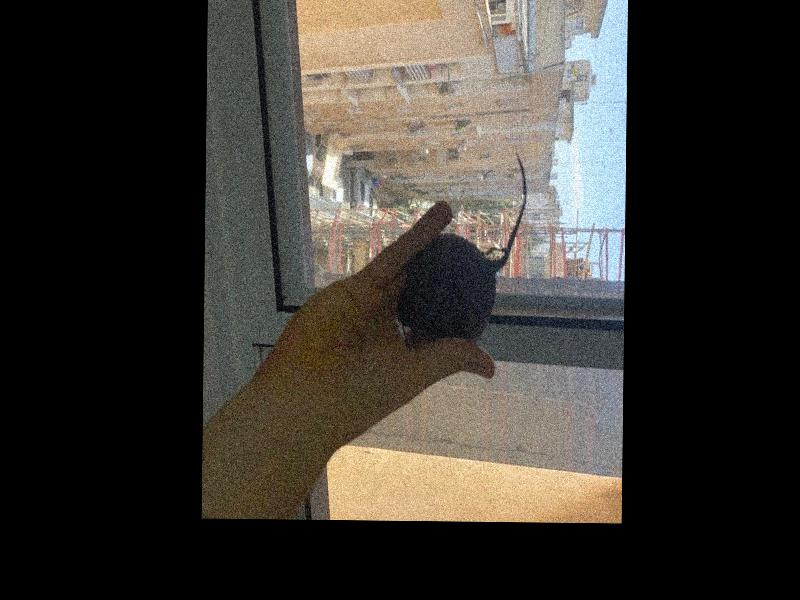Beet: (397, 150, 528, 340)
